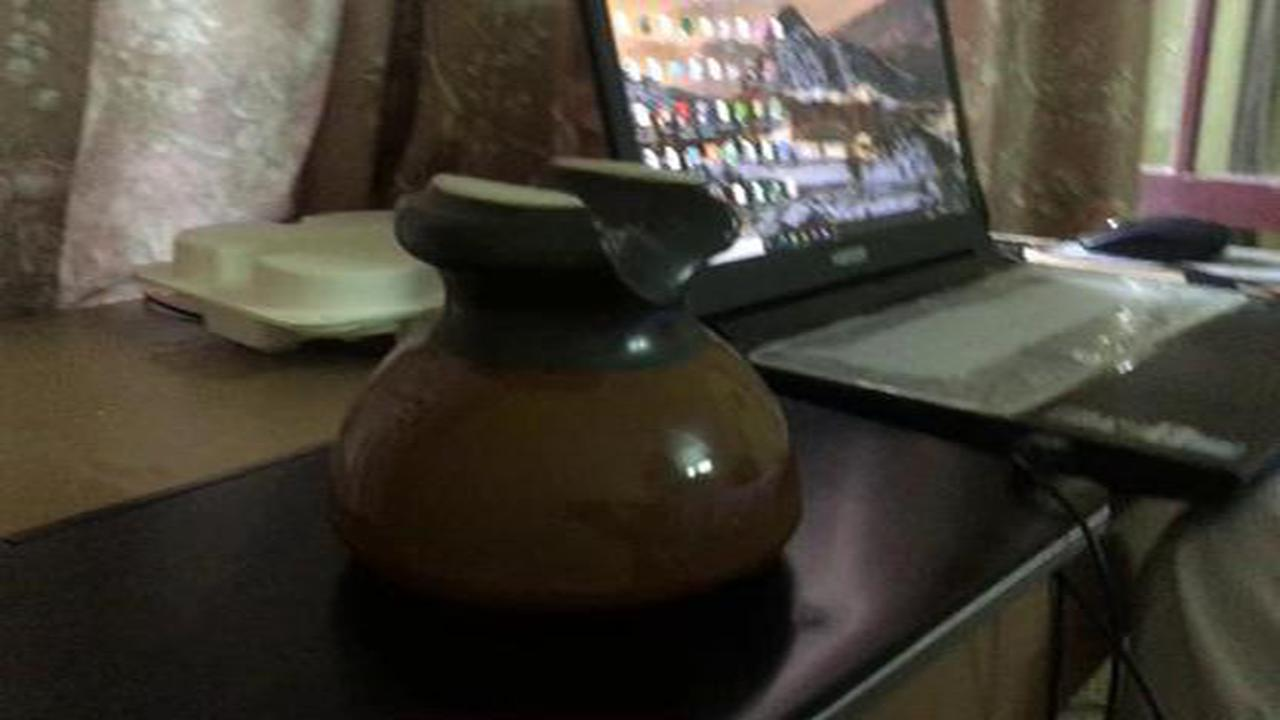insulator_pin: (302, 144, 837, 634)
